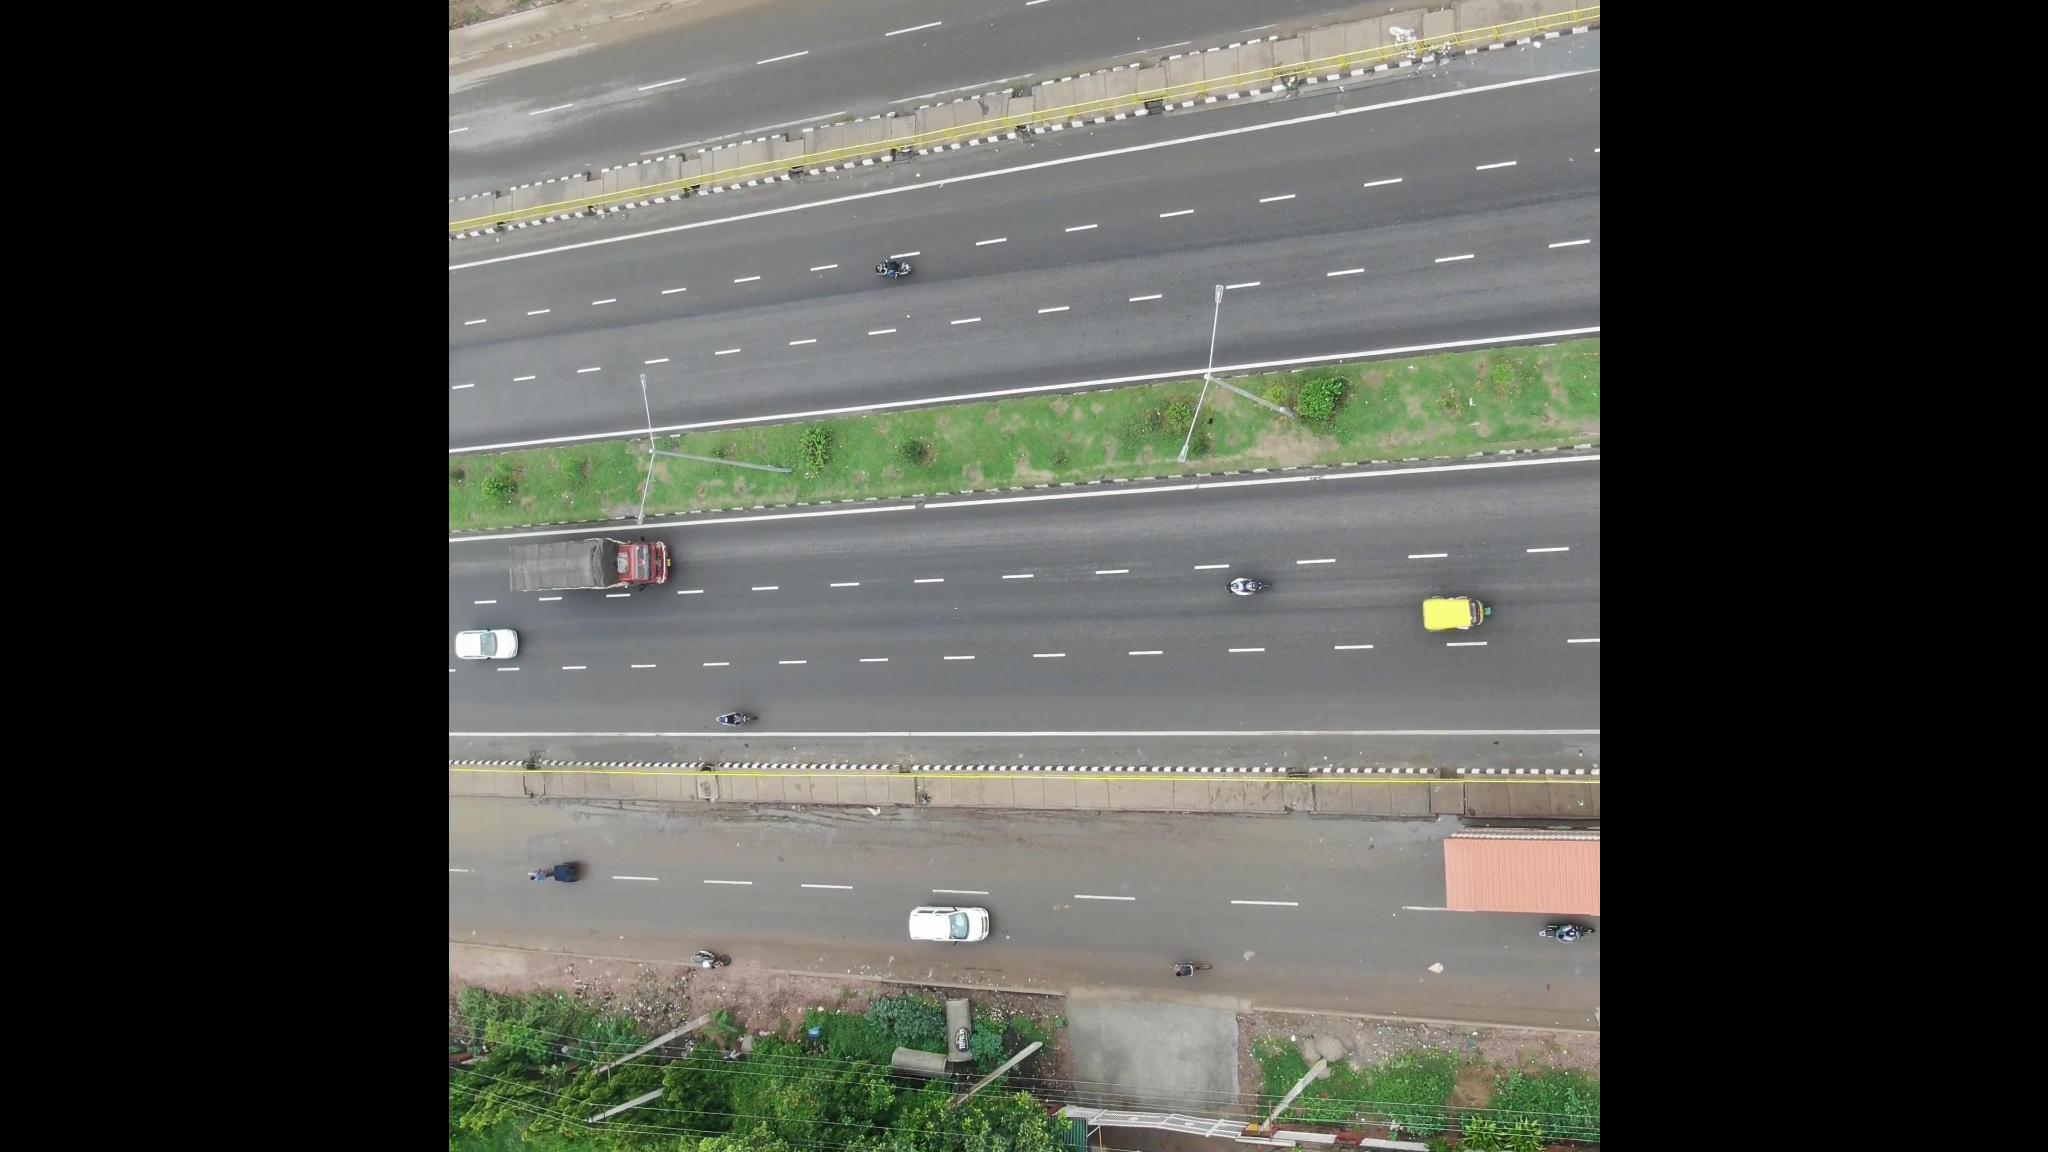Muddy_road: (737, 800, 1108, 866)
